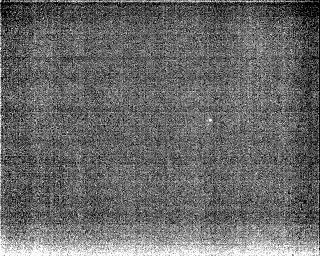BIRD: (206, 115, 215, 126)
